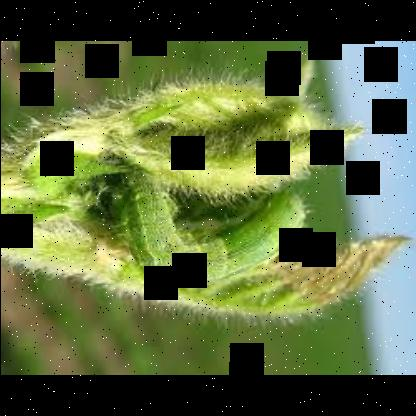oruga: (116, 161, 320, 289)
